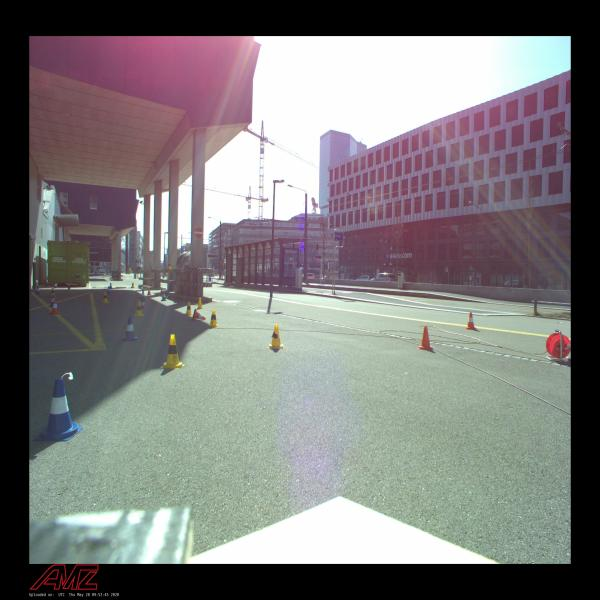blue_cone: (34, 378, 84, 442), (122, 318, 139, 342), (49, 295, 58, 308), (139, 297, 146, 309), (35, 286, 41, 295), (161, 292, 167, 301), (140, 291, 146, 299), (184, 260, 189, 268), (107, 286, 111, 294), (109, 283, 113, 289), (76, 272, 80, 277), (54, 282, 57, 288)
orange_cone: (416, 326, 434, 351), (465, 312, 478, 330), (50, 299, 61, 315), (192, 309, 206, 320), (147, 288, 152, 296)
yellow_cone: (160, 334, 185, 370), (267, 324, 285, 350), (208, 310, 219, 328), (135, 302, 144, 316), (185, 301, 193, 316), (196, 298, 204, 309), (102, 292, 109, 303), (50, 288, 56, 298), (67, 284, 72, 291), (167, 262, 172, 269), (131, 282, 135, 288), (151, 273, 154, 279)
